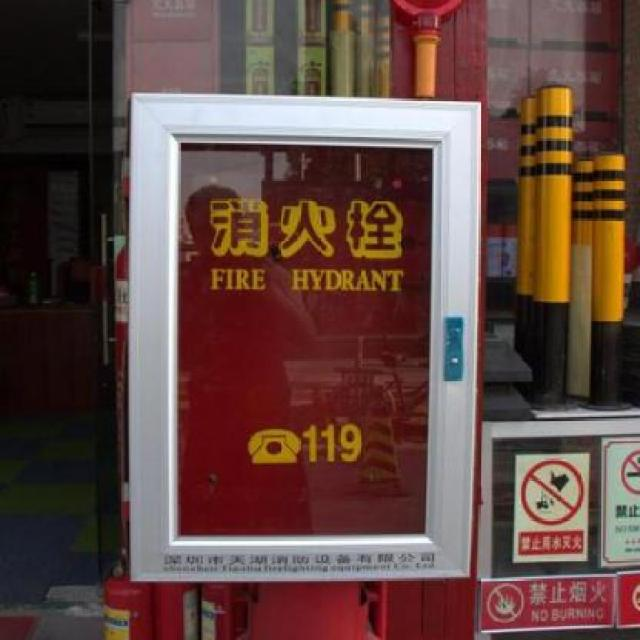firehydrant: (124, 89, 484, 586)
